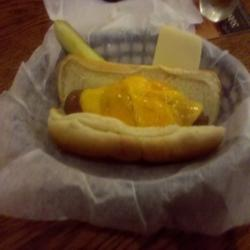hotdog: (46, 49, 227, 172)
